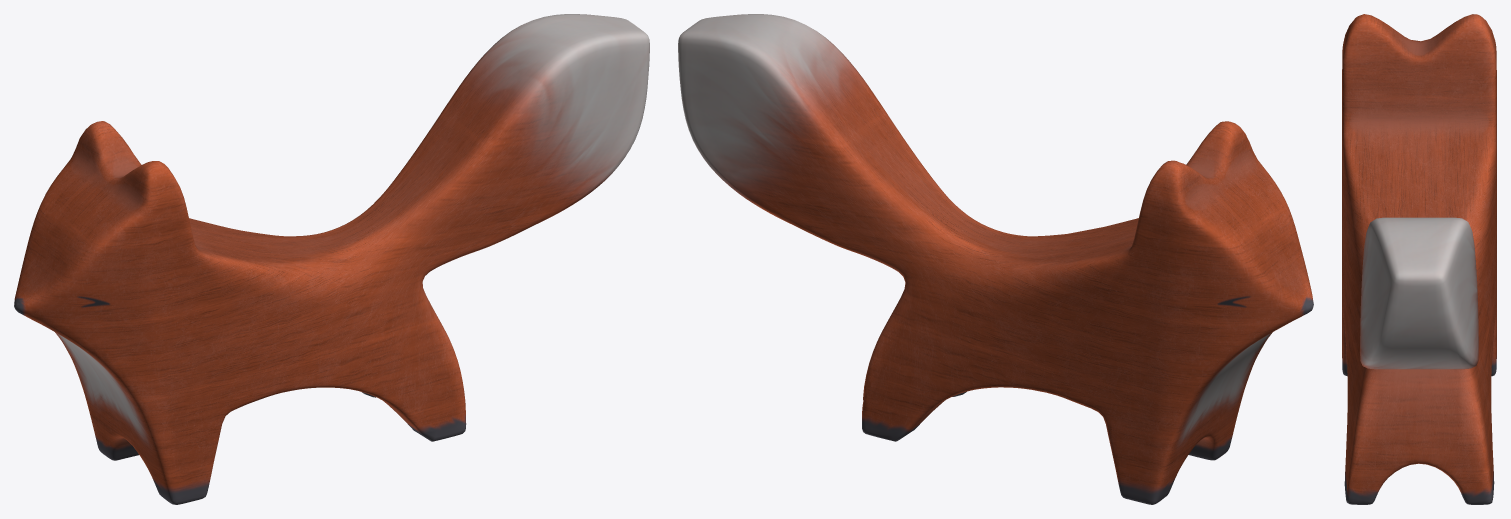
File: wooden_fox_kit_figure.glb
The picture shows the model from 3 angles, left to right: view 1: azimuth 30°, elevation 25°; view 2: azimuth 150°, elevation 25°; view 3: azimuth 270°, elevation 25°; orthographic projection.
Visible parts, largest first — view 1: Object_2; view 2: Object_2; view 3: Object_2.
Part boxes in pixels (x1,y1,x2,y2): Object_2: [14, 14, 649, 504]; Object_2: [678, 14, 1313, 504]; Object_2: [1342, 14, 1496, 504].
Size of the model in its own units: 20.04 by 10.62 by 4.27.
1 material, 1 textured.
